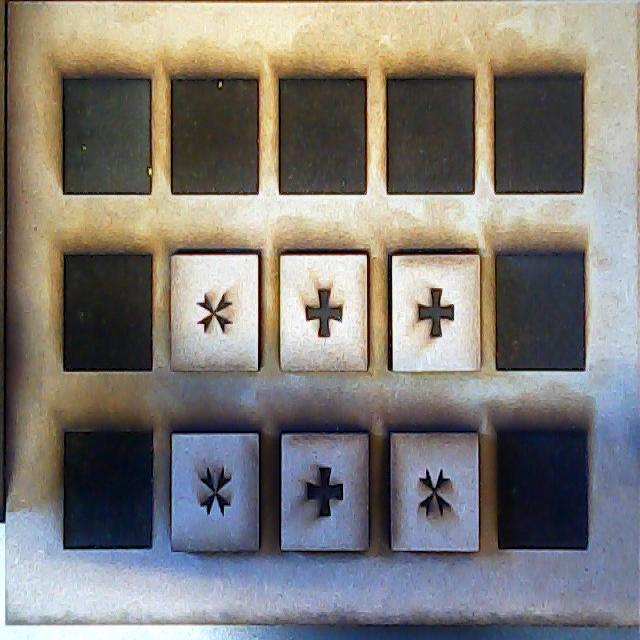maltese: (170, 434, 261, 552), (390, 434, 482, 549), (171, 254, 260, 372)
temple: (278, 254, 367, 374), (282, 432, 371, 552), (390, 254, 477, 374)
